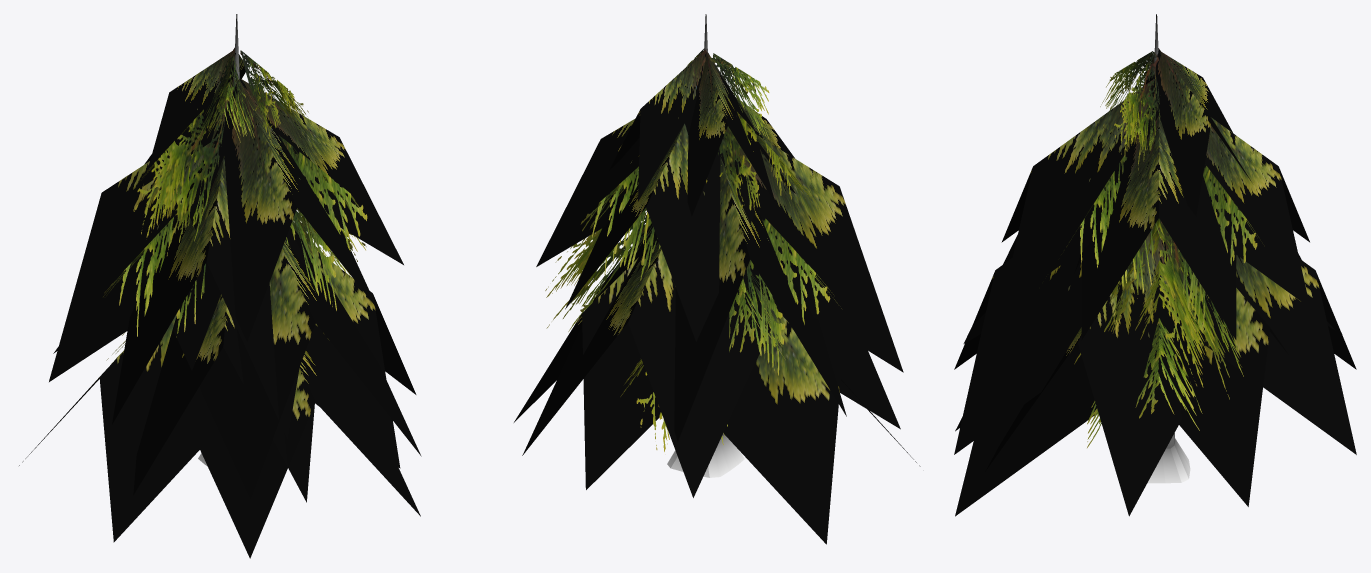
File: Cyprus1.fbx
3 renders of one model, left to right at view 1: azimuth 30°, elevation 25°; view 2: azimuth 150°, elevation 25°; view 3: azimuth 270°, elevation 25°, orthographic.
Parts seen in each view (by area): view 1: Tree1; view 2: Tree1; view 3: Tree1.
Boxes of the visible parts, x1,y1,x2,y2 form: Tree1: [19, 14, 421, 558]; Tree1: [514, 14, 920, 544]; Tree1: [954, 14, 1356, 516].
Size of the model in its own units: 1651 by 2080 by 1651.
